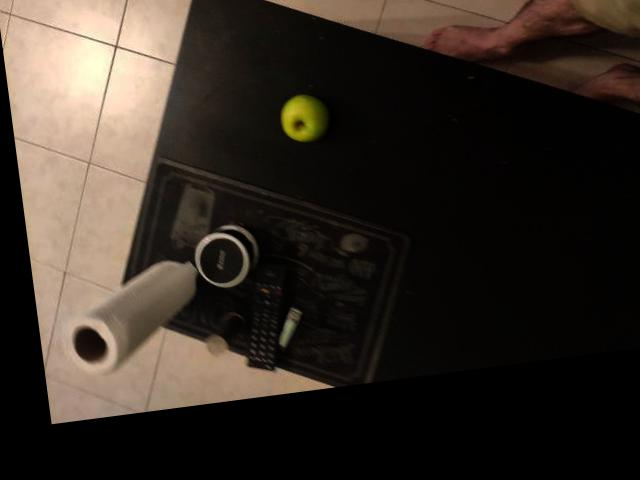apple: (183, 42, 272, 144)
